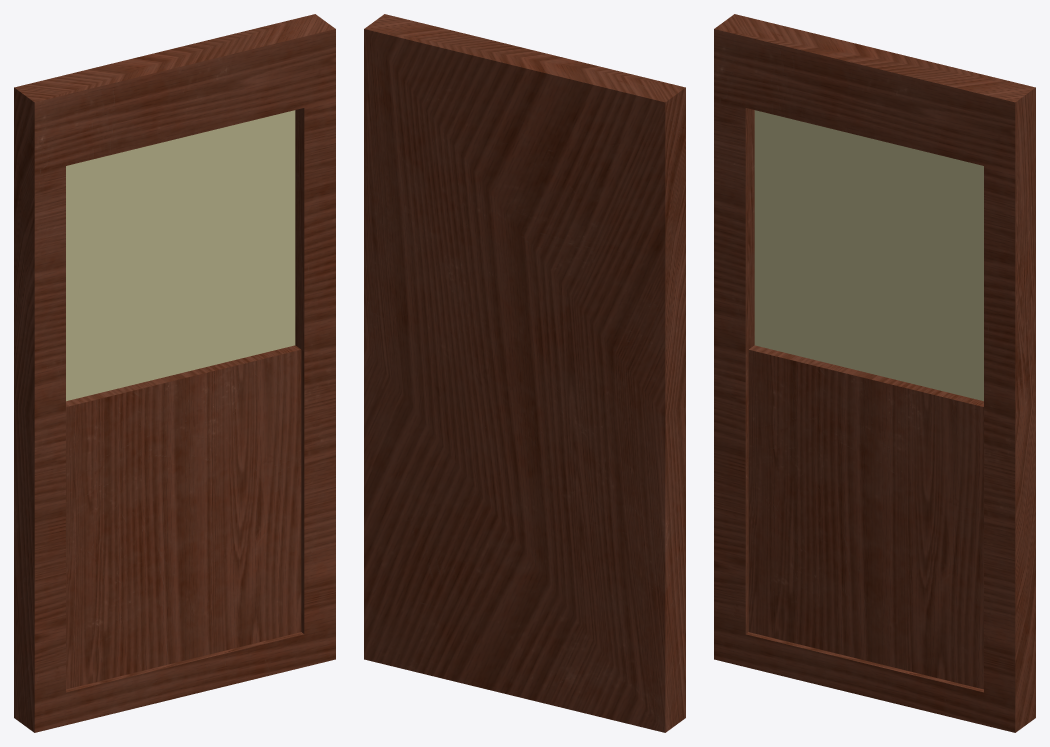
The model's file is SM_Wall.fbx.
3 views of the same model, side by side, from view 1: azimuth 30°, elevation 25°; view 2: azimuth 150°, elevation 25°; view 3: azimuth 330°, elevation 25° (orthographic).
Visible parts, largest first — view 1: WallPanel; view 2: WallPanel; view 3: WallPanel.
Boxes of the visible parts, left/top/right/bottom form: WallPanel: left=14, top=14, right=335, bottom=732; WallPanel: left=364, top=14, right=685, bottom=732; WallPanel: left=714, top=14, right=1035, bottom=732.
Bounding box in the file's own units: 2 × 4 × 0.2353.
